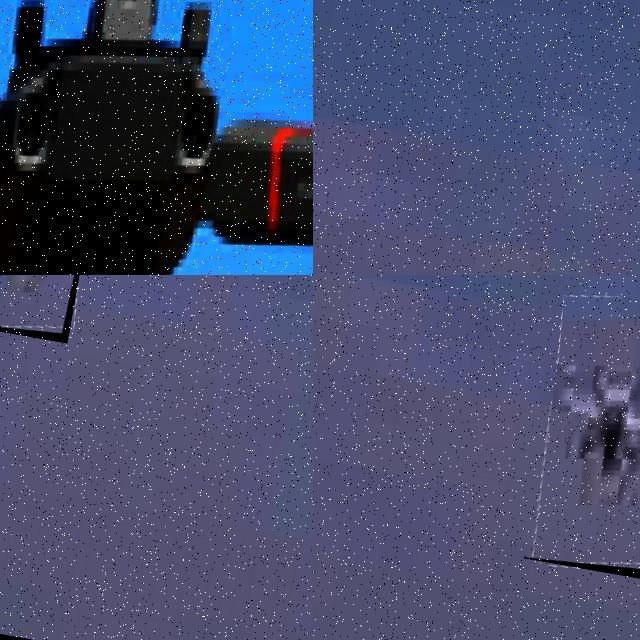drone: (0, 0, 313, 275), (523, 287, 640, 583)
